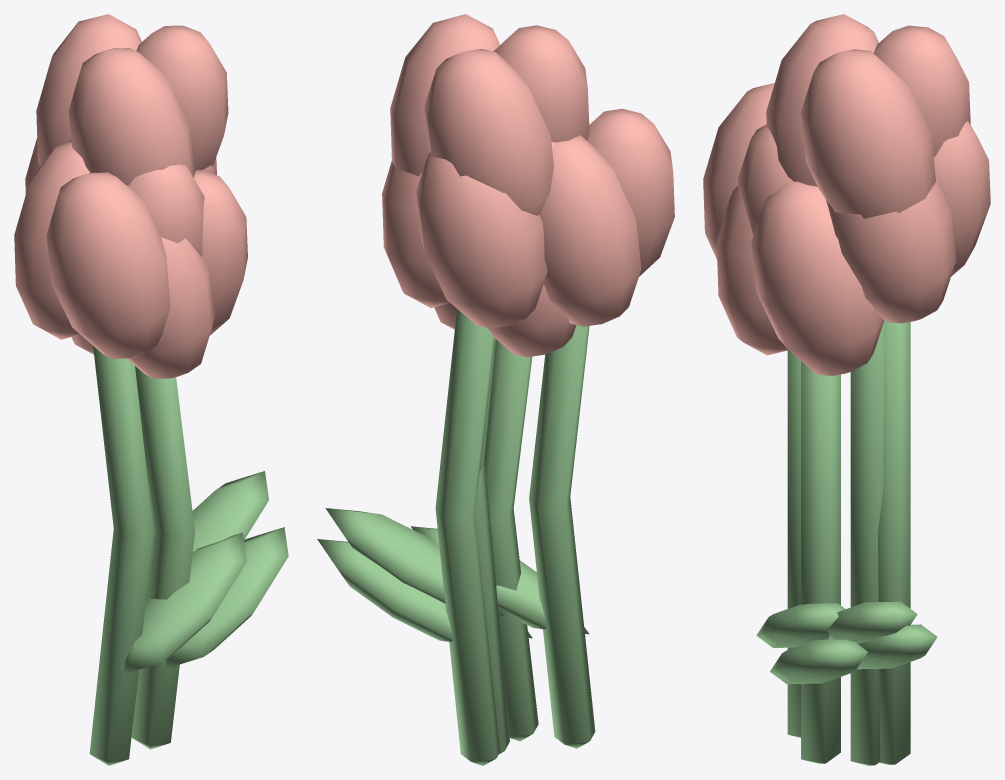
Rendered from flowers_tulipa_coral_cluster.glb.
3 renders of one model, left to right at view 1: azimuth 30°, elevation 25°; view 2: azimuth 150°, elevation 25°; view 3: azimuth 270°, elevation 25°, orthographic. The views are drawn at different scales.
Parts seen in each view (by area): view 1: flowers_tulipa_coral_cluster; view 2: flowers_tulipa_coral_cluster; view 3: flowers_tulipa_coral_cluster.
Boxes of the visible parts, left/top/right/bottom form: flowers_tulipa_coral_cluster: left=14, top=14, right=288, bottom=765; flowers_tulipa_coral_cluster: left=317, top=14, right=674, bottom=765; flowers_tulipa_coral_cluster: left=703, top=14, right=990, bottom=765.
Size of the model in its own units: 0.222 by 0.5509 by 0.1958.
